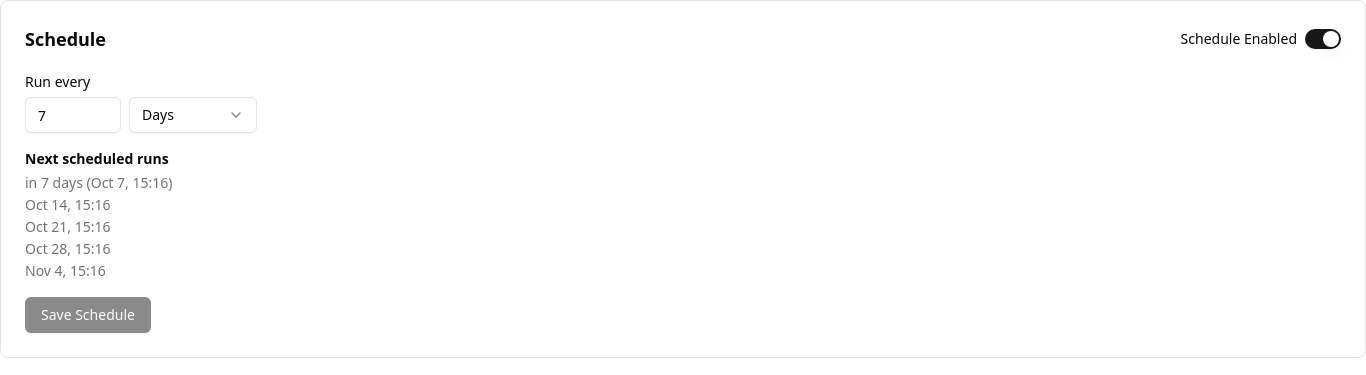
it: ScheduleBuilder — UI-02: Frontend validation › shows validation error for days value above max of 365
The image size is (1366, 375).
Replace the text in the number field with placeholder "Value" with "400" at (73, 115), box [25,97,121,133]
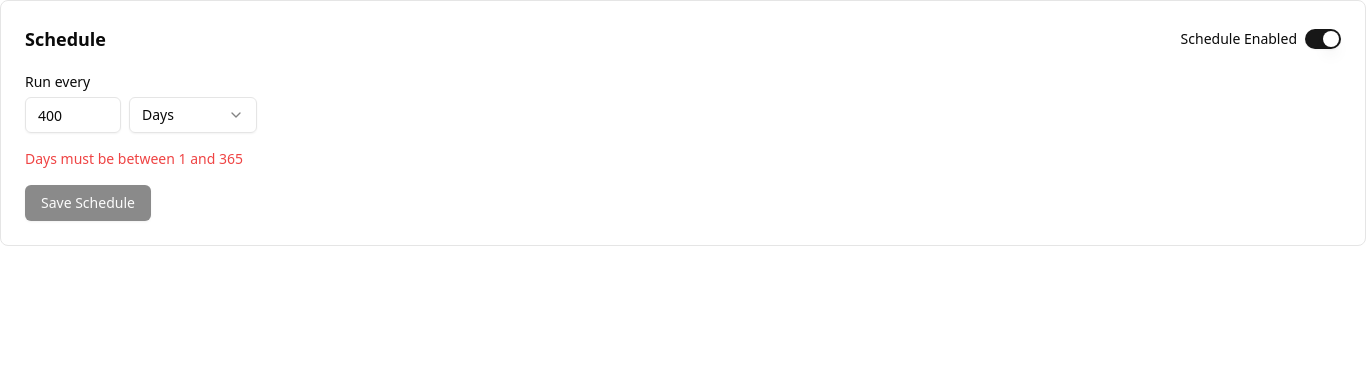
Expected: the text "Days must be between 1 and 365" is shown, [25,149,243,168]
